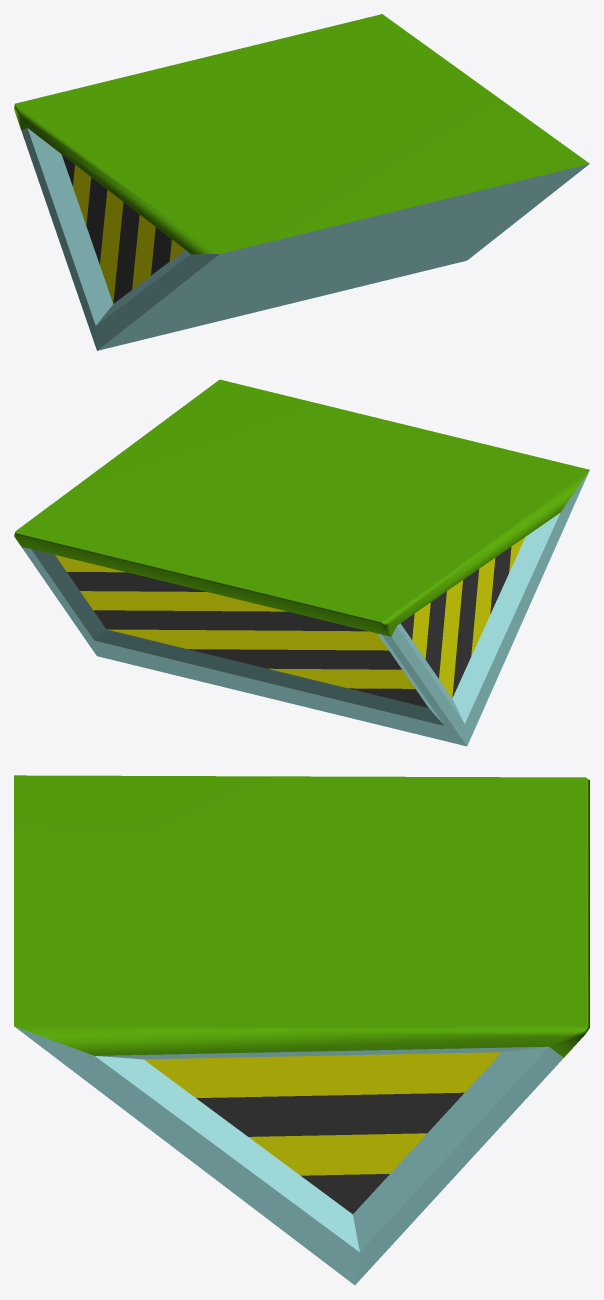
File: Barrier.fbx
3 views of the same model, one above another, from view 1: azimuth 30°, elevation 25°; view 2: azimuth 150°, elevation 25°; view 3: azimuth 270°, elevation 25° (orthographic). The views are drawn at different scales.
Visible parts, largest first — view 1: Barrier; view 2: Barrier; view 3: Barrier.
Part boxes in pixels (x1,y1,x2,y2): Barrier: [14, 14, 589, 350]; Barrier: [14, 379, 589, 746]; Barrier: [14, 775, 589, 1285].
Size of the model in its own units: 0.8 by 0.3857 by 0.7765.
Materials: 1 (1 with a texture image).
